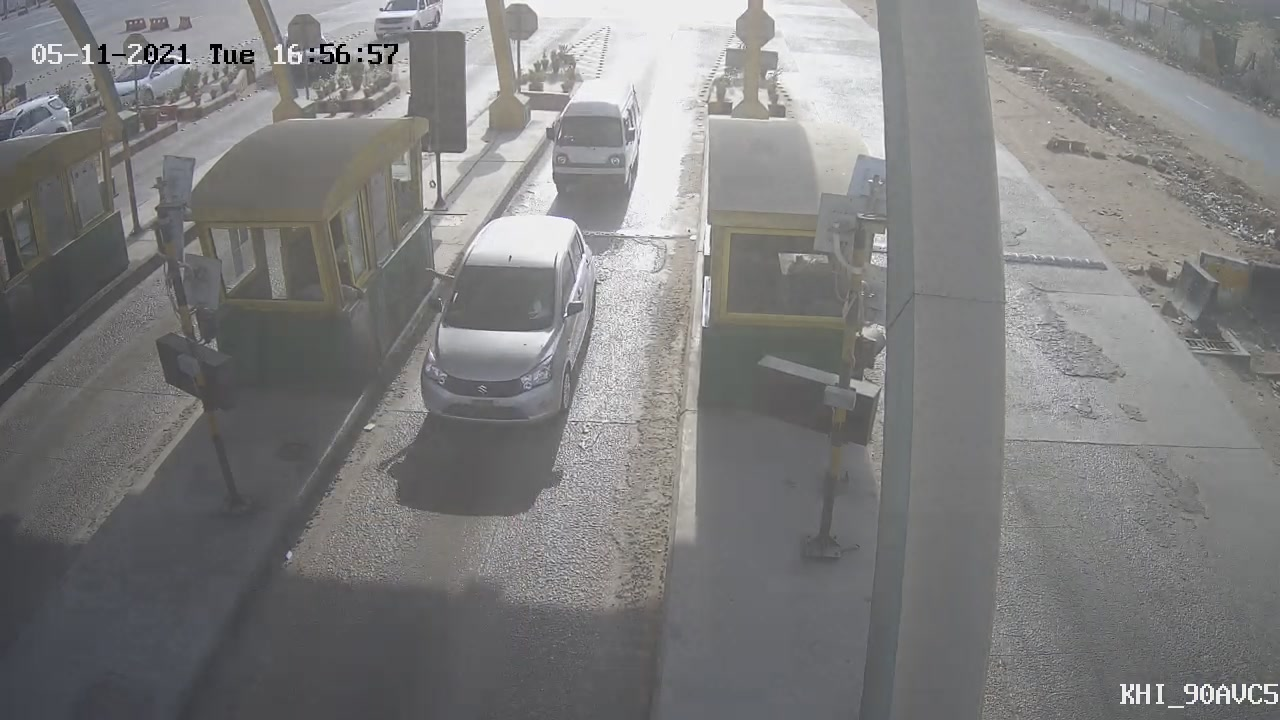F1: (398, 198, 617, 442), (526, 64, 659, 214)
